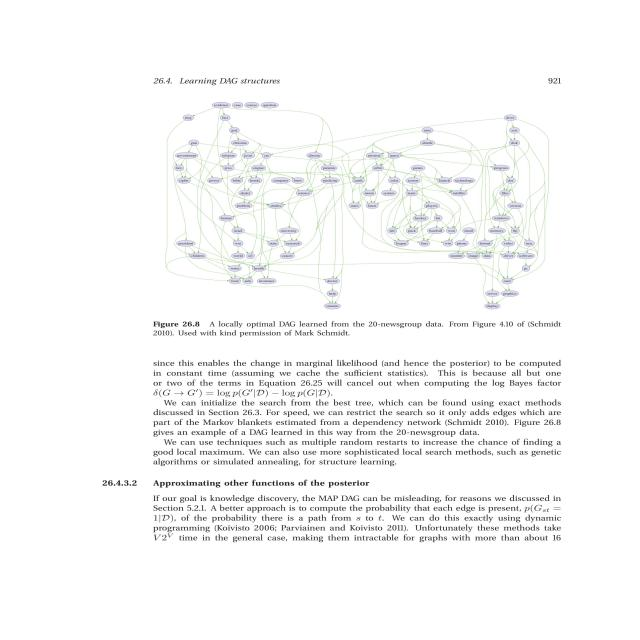diagram: (12, 94, 640, 350)
